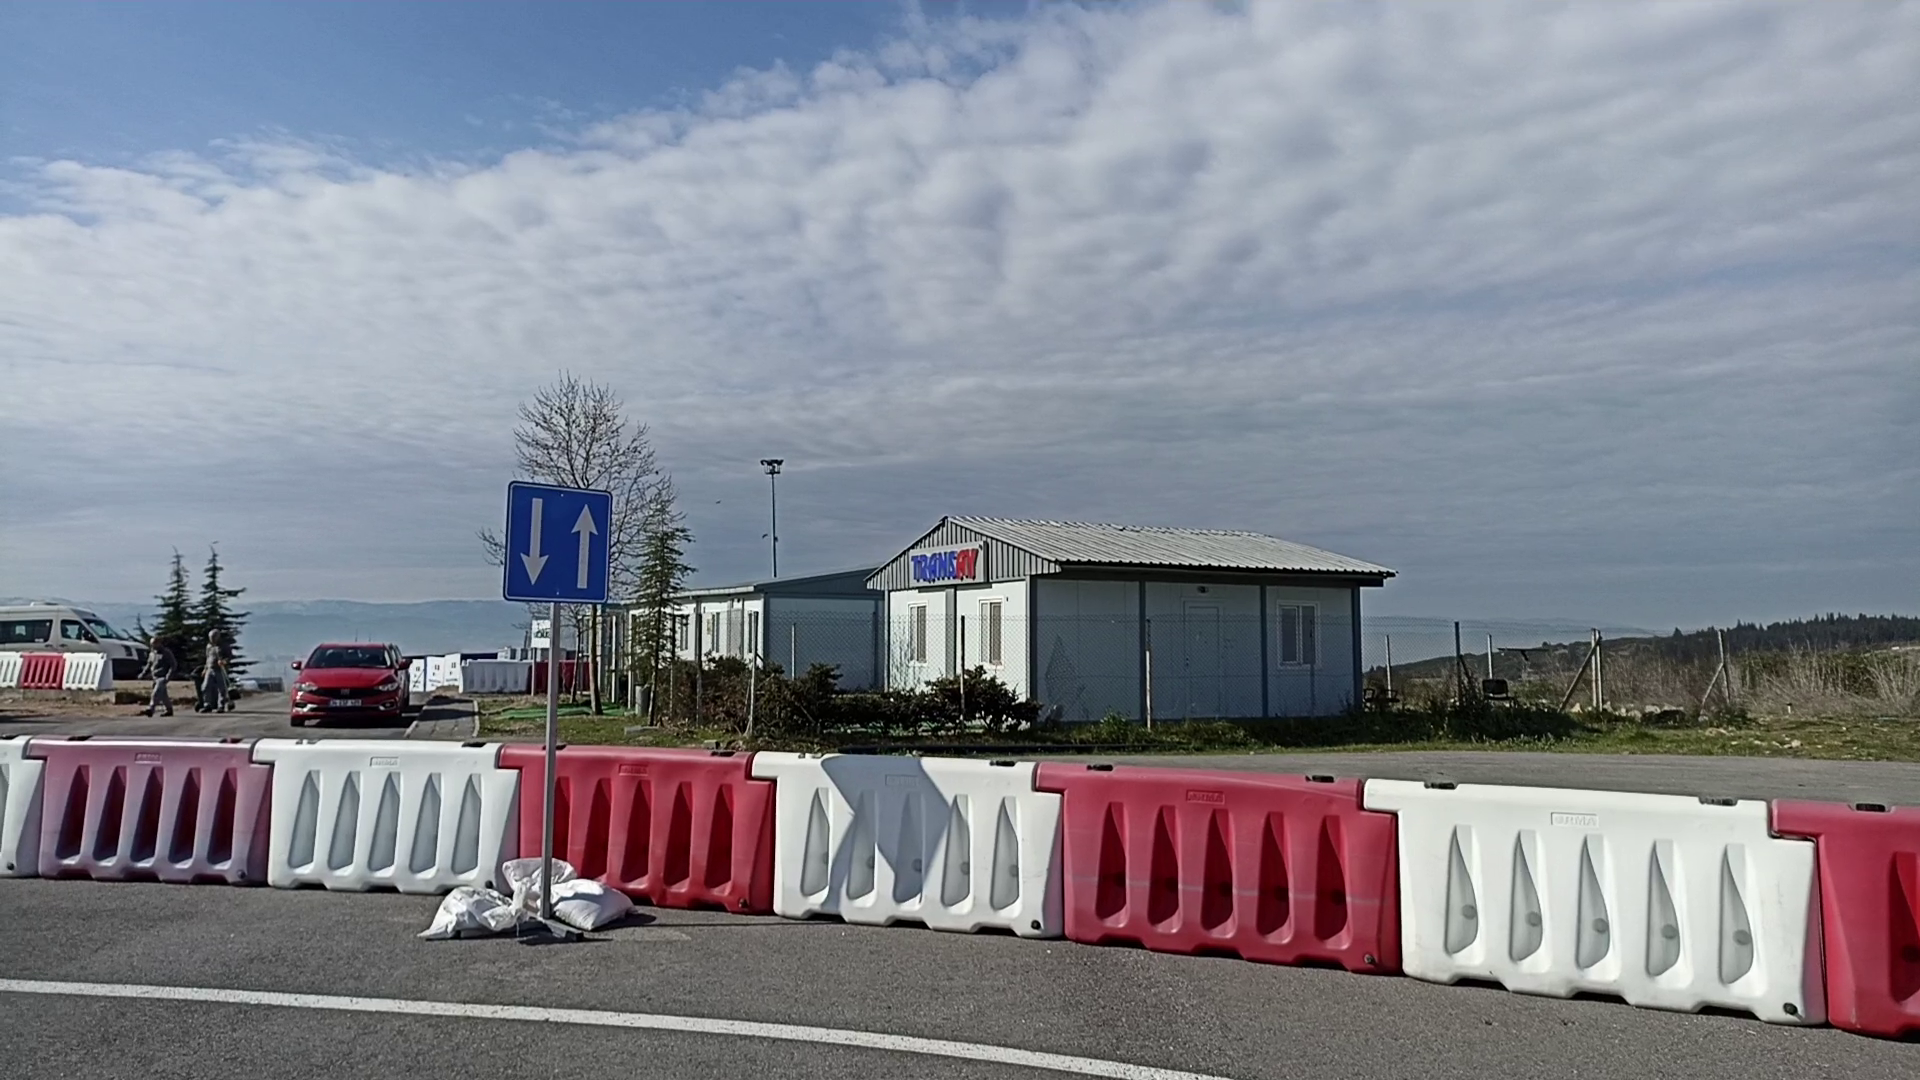oneway: (501, 479, 613, 607)
